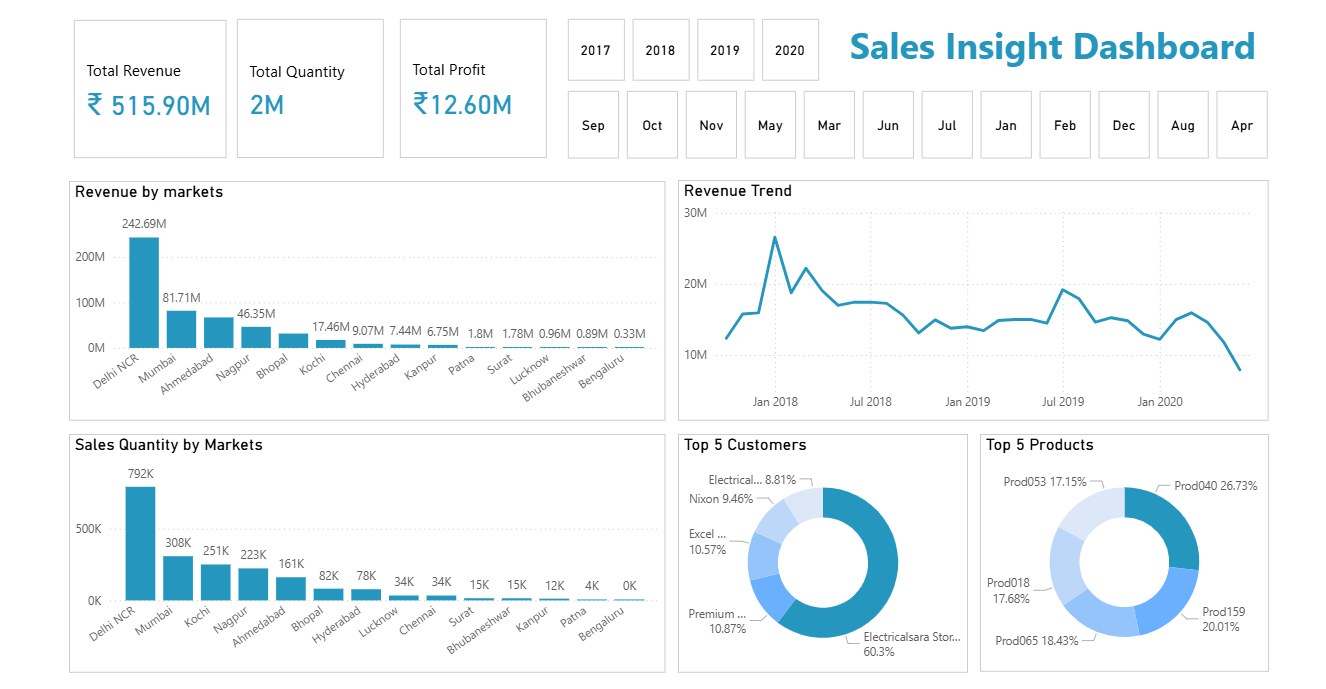

What the dashboard file says about the page in this screenshot:
{"tool":"powerbi","page":{"name":"Key Insights","canvas":[1280,720],"ordinal":0},"visuals":[{"type":"cardVisual","fields":{"Data":["sales_cleaned.Total Revenue"]},"box":[21.7,15,168.3,153.3],"z":0},{"type":"cardVisual","fields":{"Data":["sales sales_cleaned.sales_qty"]},"box":[190,14.3,162.9,154.3],"z":1000},{"type":"cardVisual","fields":{"Data":["sales_cleaned.Total Profit"]},"box":[358.6,14.3,162.9,154.3],"z":2000},{"type":"advancedSlicerVisual","fields":{"Values":["sales sales_cleaned.year"]},"box":[532.9,14.3,272.9,74.3],"z":3000},{"type":"advancedSlicerVisual","fields":{"Values":["sales sales_cleaned.month_name"]},"box":[532.9,88.6,740,80],"z":4000},{"type":"columnChart","title":"Revenue by markets","fields":{"Category":["sales sales_cleaned.market_name"],"Y":["sales_cleaned.sales_amount"]},"box":[21.5,187.7,616.9,247.7],"z":5000},{"type":"columnChart","title":"Sales Quantity by Markets","fields":{"Category":["sales_cleaned.market_name"],"Y":["sales_cleaned.sales_qty"]},"box":[21.4,448.6,617.1,247.1],"z":6000},{"type":"lineChart","title":"Revenue Trend","fields":{"Y":["sales sales_cleaned.sales_amount"],"Category":["sales sales_cleaned.cy_date"]},"box":[651.2,186.2,611.2,248.8],"z":7000},{"type":"donutChart","title":"Top 5 Customers","fields":{"Category":["sales sales_cleaned.customer_name"],"Y":["sales_cleaned.sales_amount"]},"box":[651.4,448.6,300,247.1],"z":8000},{"type":"donutChart","title":"Top 5 Products","fields":{"Category":["sales sales_cleaned.product_code"],"Y":["sales_cleaned.sales_amount"]},"box":[963.8,448.8,298.8,246.2],"z":9000},{"type":"textbox","box":[816.7,15,446.7,73.3],"z":10000}]}

Visuals, with their boxes on the page's 1280x720 design canvas (x1, y1, x2, y2). These are canvas units, not pixel positions in the 1326x689 screenshot, which may show the page scaled, cropped or inside an application window:
cardVisual - sales_cleaned.Total Revenue: [22,15,190,168]
cardVisual - sales sales_cleaned.sales_qty: [190,14,353,169]
cardVisual - sales_cleaned.Total Profit: [359,14,522,169]
advancedSlicerVisual - sales sales_cleaned.year: [533,14,806,89]
advancedSlicerVisual - sales sales_cleaned.month_name: [533,89,1273,169]
"Revenue by markets" columnChart: [22,188,638,435]
"Sales Quantity by Markets" columnChart: [21,449,638,696]
"Revenue Trend" lineChart: [651,186,1262,435]
"Top 5 Customers" donutChart: [651,449,951,696]
"Top 5 Products" donutChart: [964,449,1263,695]
textbox: [817,15,1263,88]
